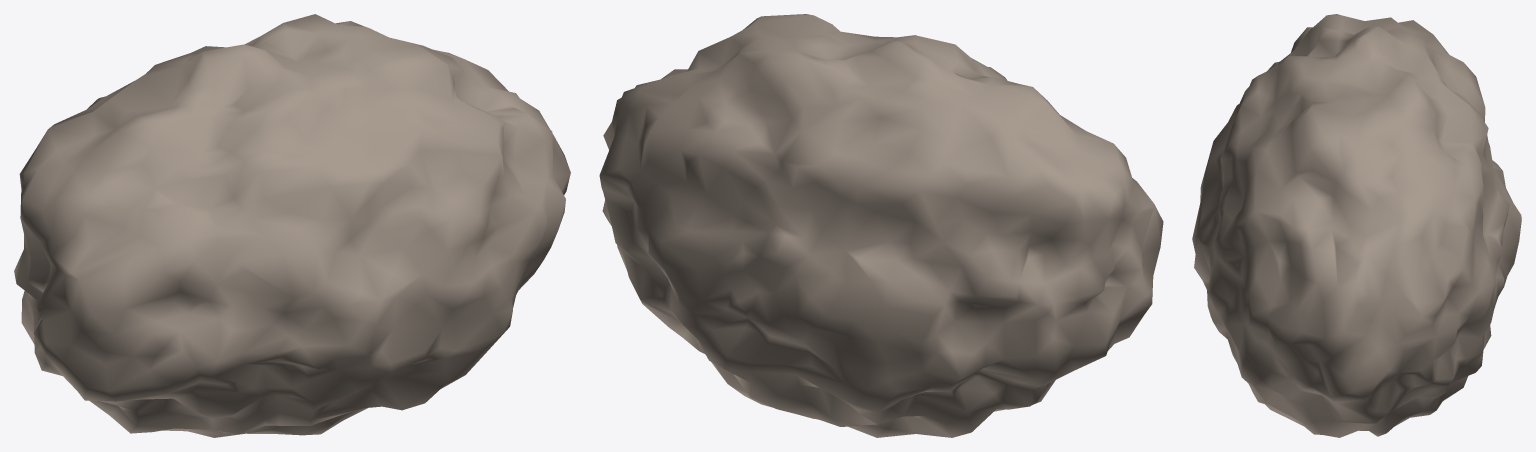
Rendered from asteroid2.glb.
3 views of the same model, side by side, from view 1: azimuth 30°, elevation 25°; view 2: azimuth 150°, elevation 25°; view 3: azimuth 270°, elevation 25° (orthographic). The views are drawn at different scales.
Parts seen in each view (by area): view 1: Icosphere; view 2: Icosphere; view 3: Icosphere.
Part boxes in pixels (x1,y1,x2,y2): Icosphere: (14, 14, 570, 437); Icosphere: (599, 14, 1163, 437); Icosphere: (1192, 14, 1521, 437).
Size of the model in its own units: 3.07 by 2.16 by 1.8.
